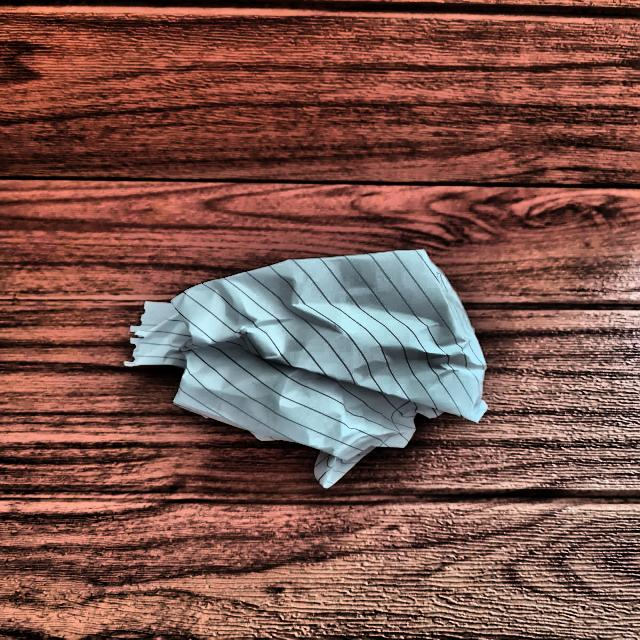Paper: (128, 247, 488, 478)
